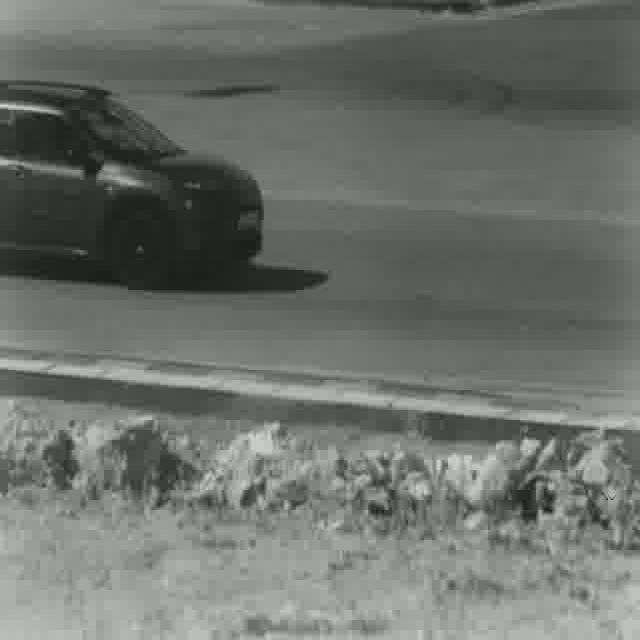Car: (0, 78, 265, 286)
